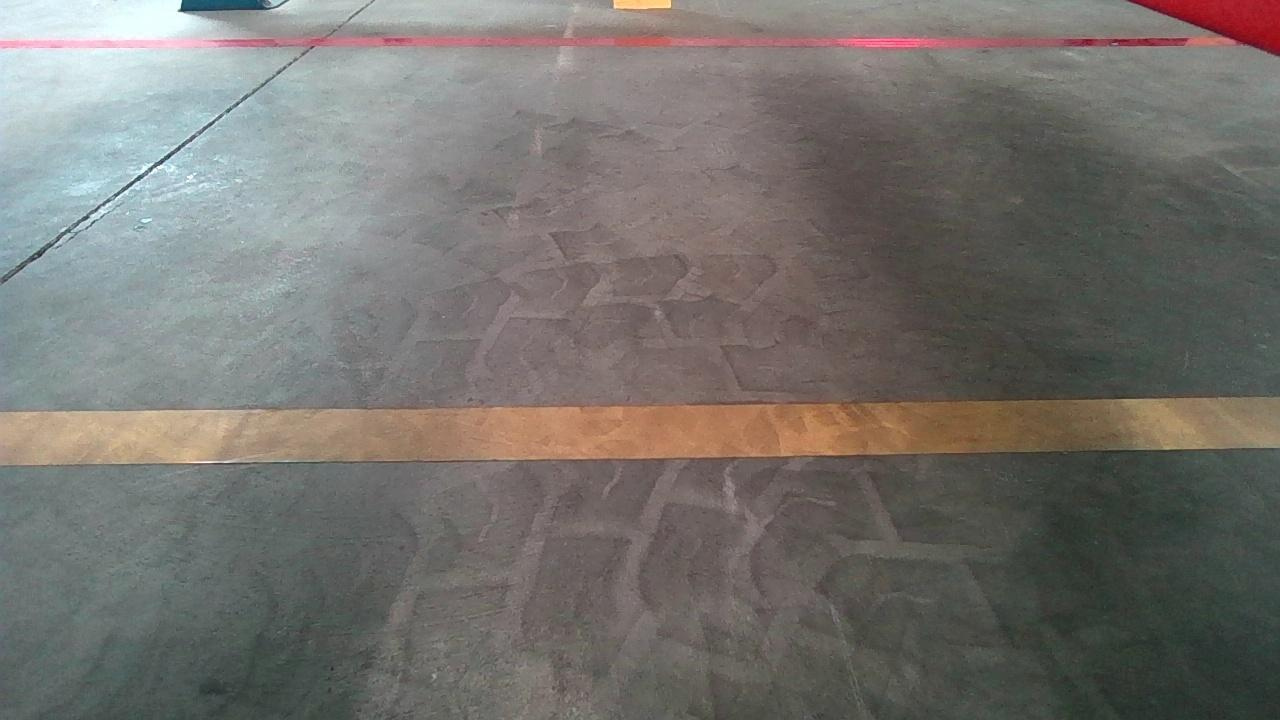red_line: (0, 35, 1241, 52)
yellow_line: (3, 393, 1280, 466)
